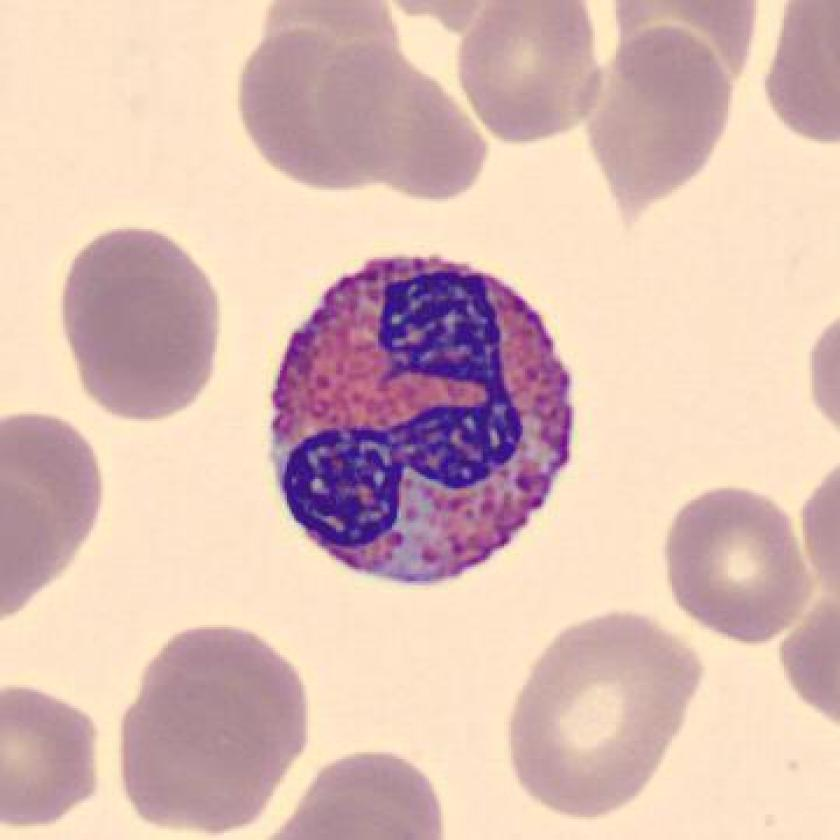eosinophil: (256, 239, 592, 605)
